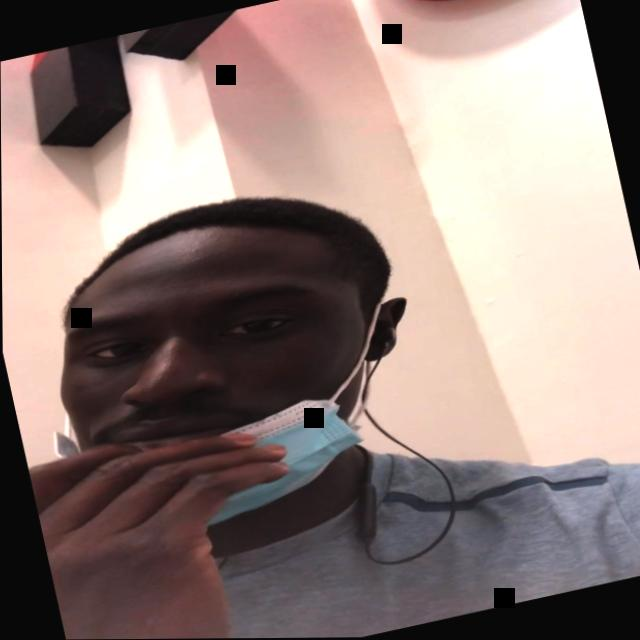NO-Mask: (35, 224, 414, 550)
